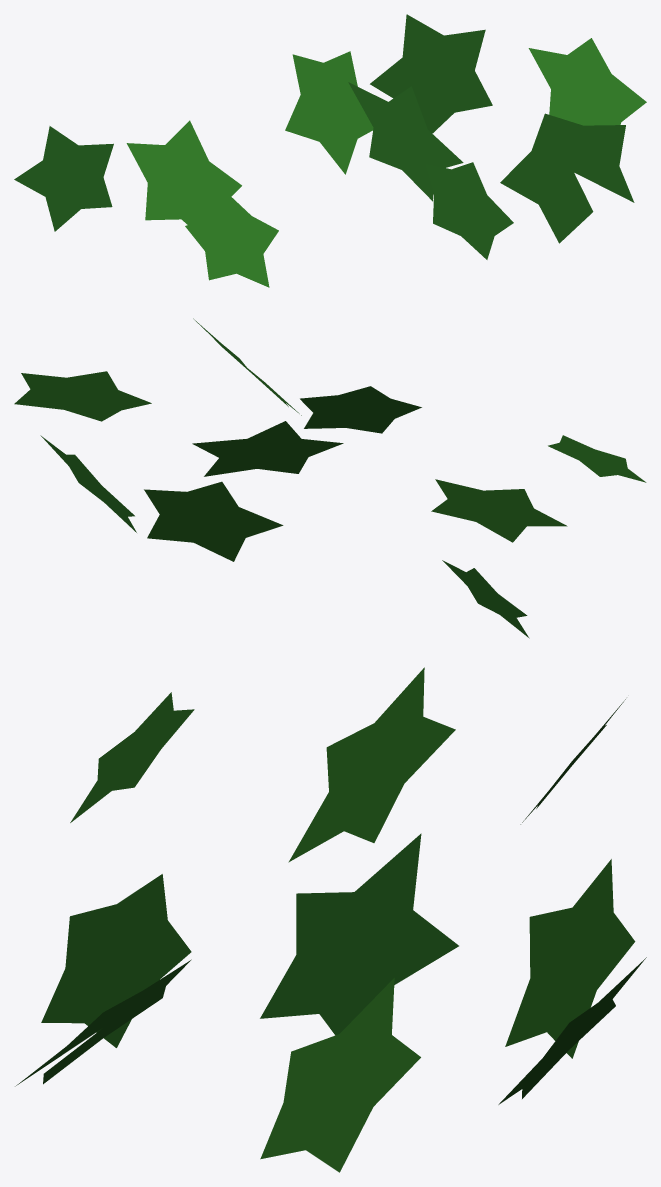
3 renders of one model, top to bottom at view 1: azimuth 30°, elevation 25°; view 2: azimuth 150°, elevation 25°; view 3: azimuth 270°, elevation 25°, orthographic. The views are drawn at different scales.
Parts seen in each view (by area): view 1: r5c0_l00; view 2: r5c0_l00; view 3: r5c0_l00.
Boxes of the visible parts, box(x1,y1,x2,y2) form: r5c0_l00: box(14, 14, 646, 287); r5c0_l00: box(14, 318, 646, 638); r5c0_l00: box(15, 667, 646, 1172).
Bounding box in the file's own units: 1.75 × 0.3543 × 1.04.
